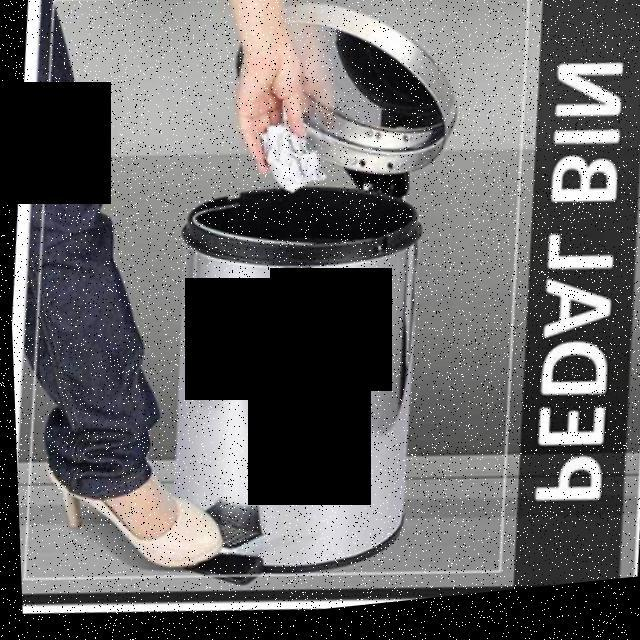bin: (130, 0, 485, 590)
